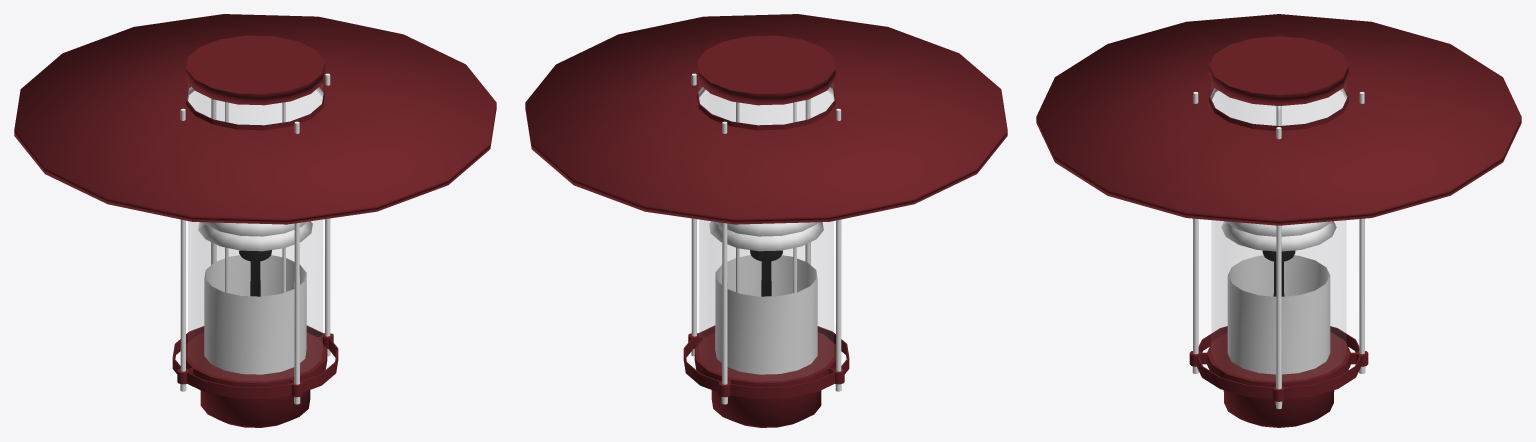
Rendered from City-Light-Plus.glb.
3 renders of one model, left to right at view 1: azimuth 30°, elevation 25°; view 2: azimuth 150°, elevation 25°; view 3: azimuth 270°, elevation 25°, orthographic.
Visible parts, largest first — view 1: Siteco City-Light Plus, Siteco City-Light Glass; view 2: Siteco City-Light Plus, Siteco City-Light Glass; view 3: Siteco City-Light Plus, Siteco City-Light Glass.
Boxes of the visible parts, x1=… form: Siteco City-Light Plus: x1=14, y1=14, x2=496, y2=427; Siteco City-Light Glass: x1=188, y1=83, x2=322, y2=380; Siteco City-Light Plus: x1=525, y1=14, x2=1007, y2=427; Siteco City-Light Glass: x1=699, y1=83, x2=833, y2=380; Siteco City-Light Plus: x1=1036, y1=14, x2=1521, y2=427; Siteco City-Light Glass: x1=1212, y1=84, x2=1345, y2=380.
Size of the model in its own units: 0.7528 by 0.5934 by 0.7528.
5 materials, 4 textured.
